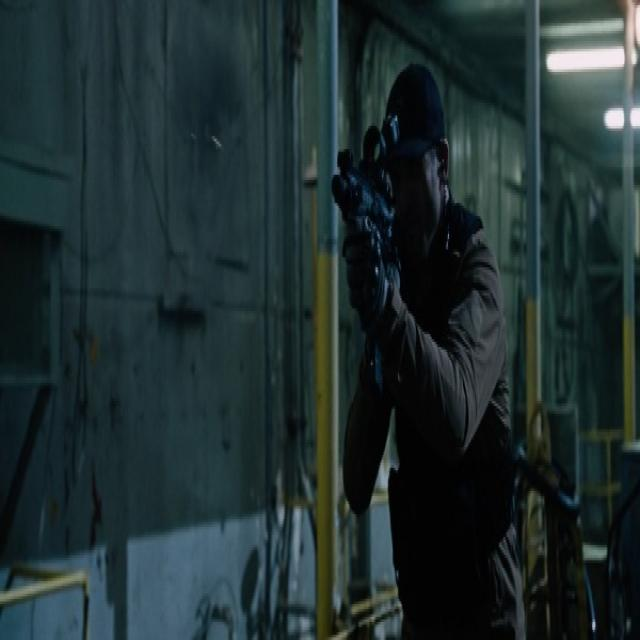rifle: (335, 105, 415, 398)
